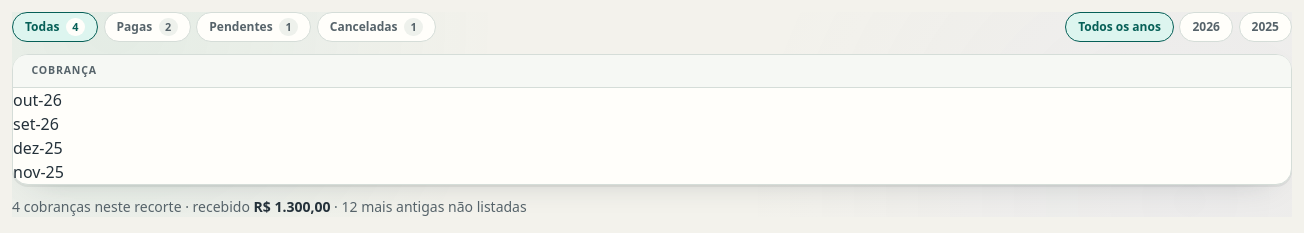
Test: client charge history › combina situação e ano e soma só o que foi pago no recorte
Click the button "Pagas 2".
click(147, 27)  # box x1=104 y1=12 x2=191 y2=42
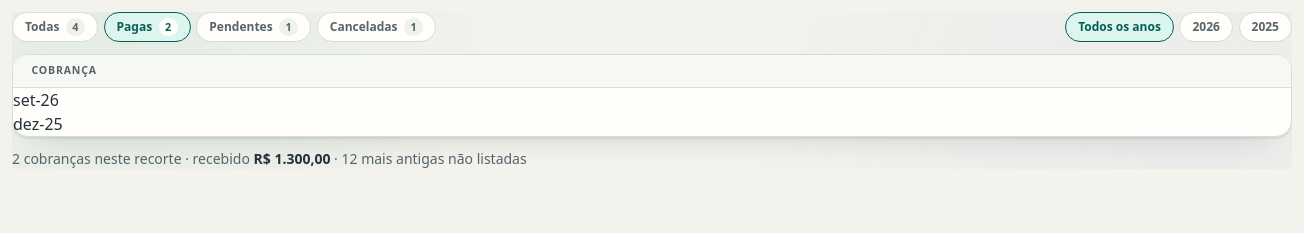
Click the button "2025".
click(1265, 27)  # box x1=1238 y1=12 x2=1292 y2=42
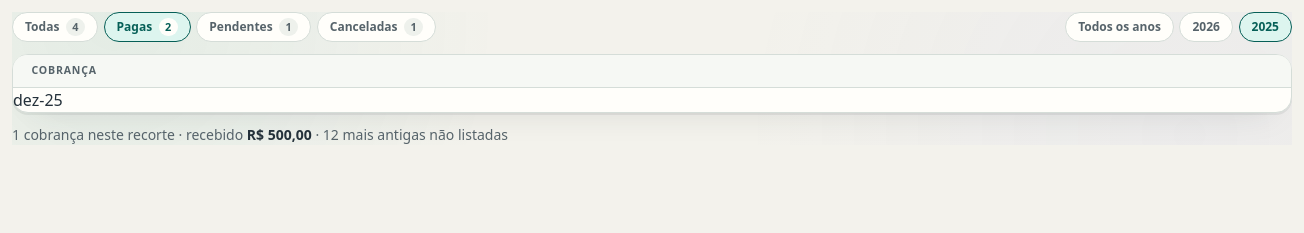
expect the message shows "12 mais antigas não listadas": met, box x1=312 y1=125 x2=508 y2=144
expect the message reads "1 cobrança neste recorte · recebido R$ 500,00 · 12 mais antigas não listadas": met, box x1=12 y1=125 x2=508 y2=144
